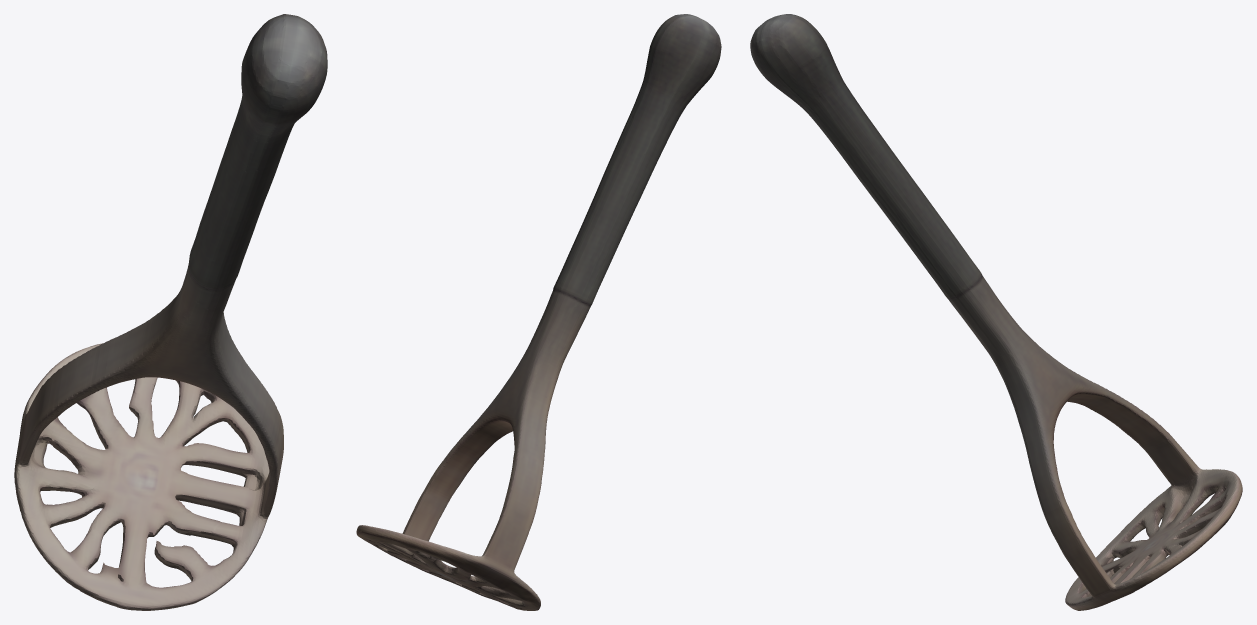
Rendered from frame_0013_source_000013_object.glb.
3 views of the same model, side by side, from view 1: azimuth 30°, elevation 25°; view 2: azimuth 150°, elevation 25°; view 3: azimuth 270°, elevation 25° (orthographic). The views are drawn at different scales.
Visible parts, largest first — view 1: world; view 2: world; view 3: world.
Boxes of the visible parts, x1,y1,x2,y2 form: world: [14, 14, 327, 610]; world: [356, 14, 721, 610]; world: [750, 14, 1242, 610].
Bounding box in the file's own units: 0.0848 × 0.2292 × 0.1848.
